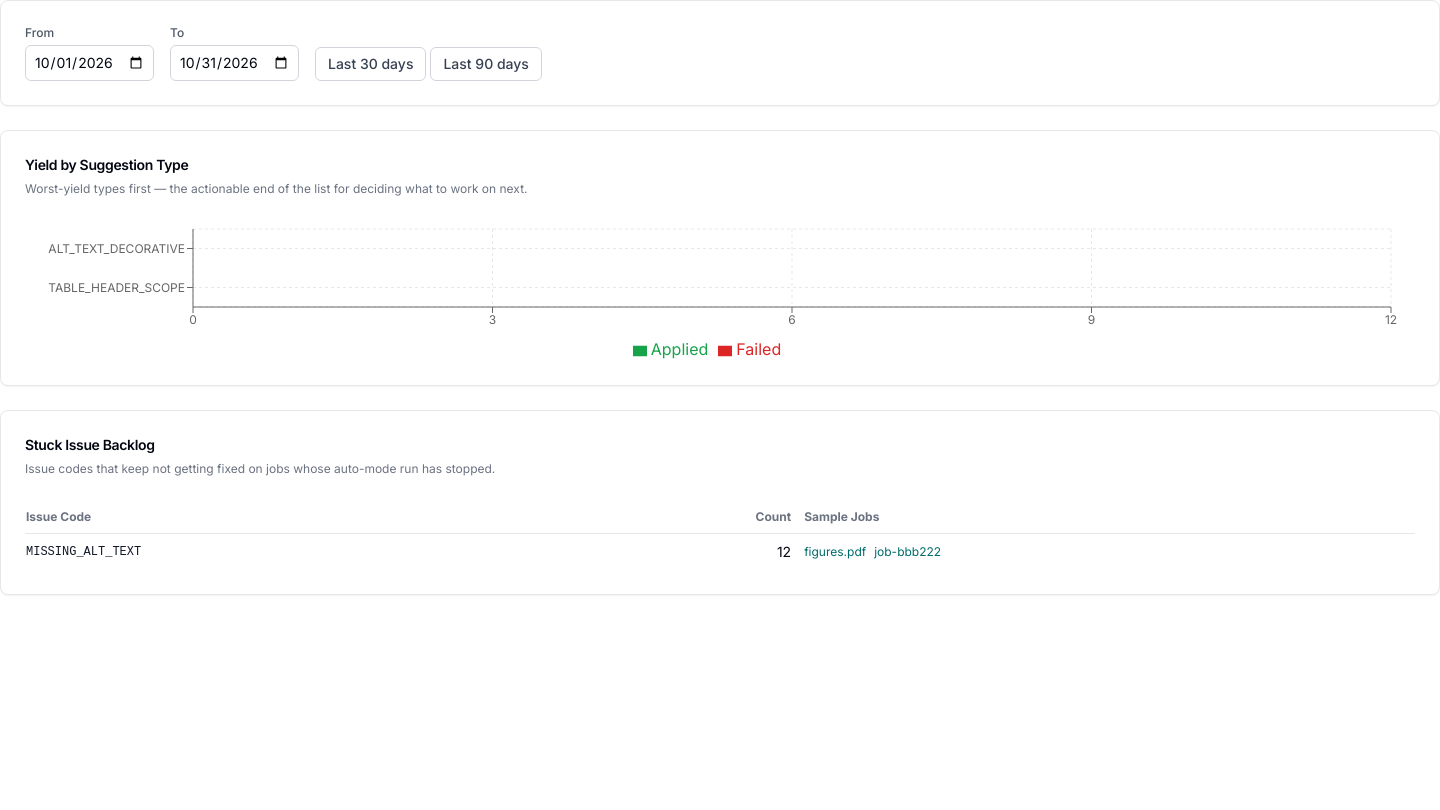
Test: QualityTab › opens the shared job drill-down dialog when a sample job is clicked
Click the button "figures.pdf" at (835, 552), box [804,544,866,560]
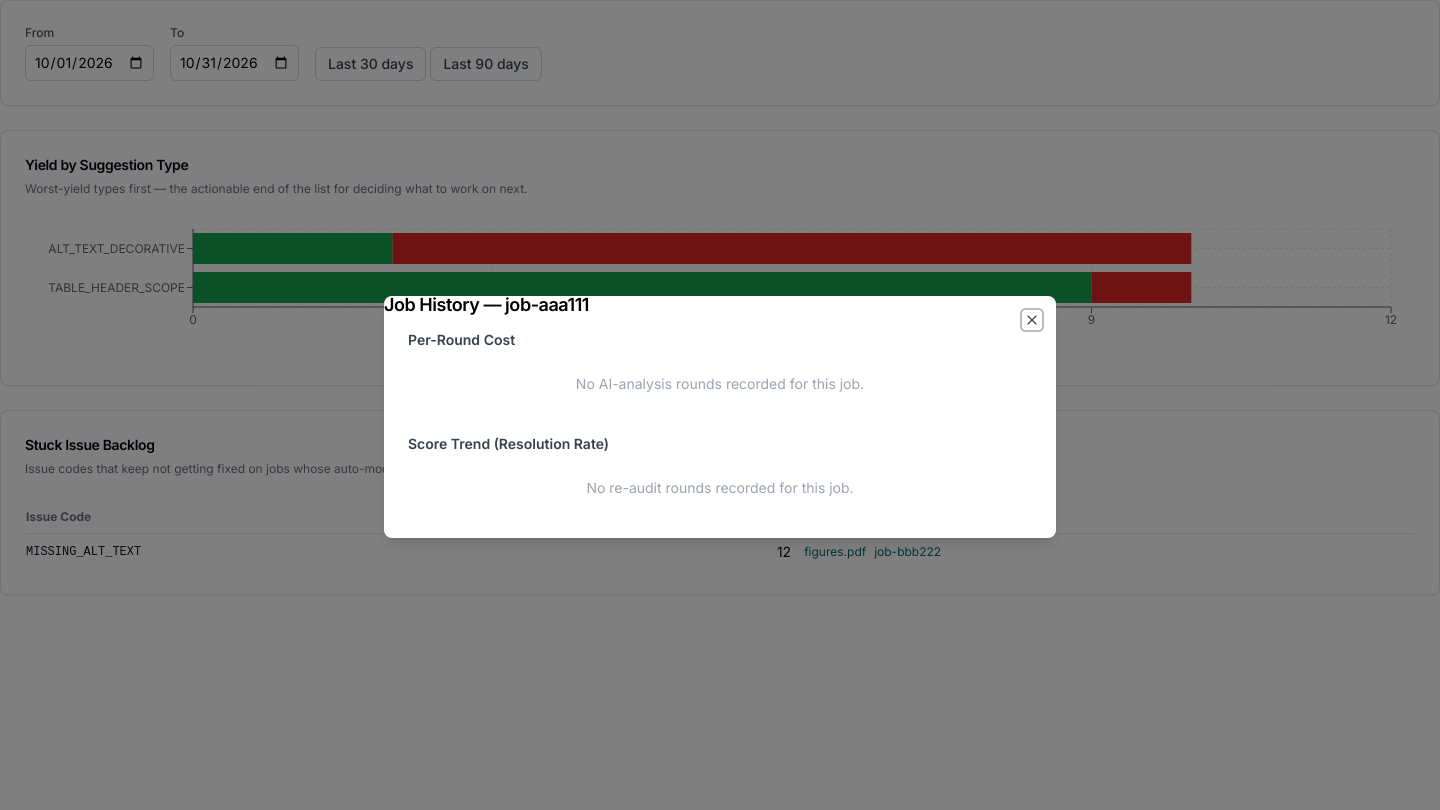
Now the heading "Job History — job-aaa111" is shown, box [384,296,589,315]
